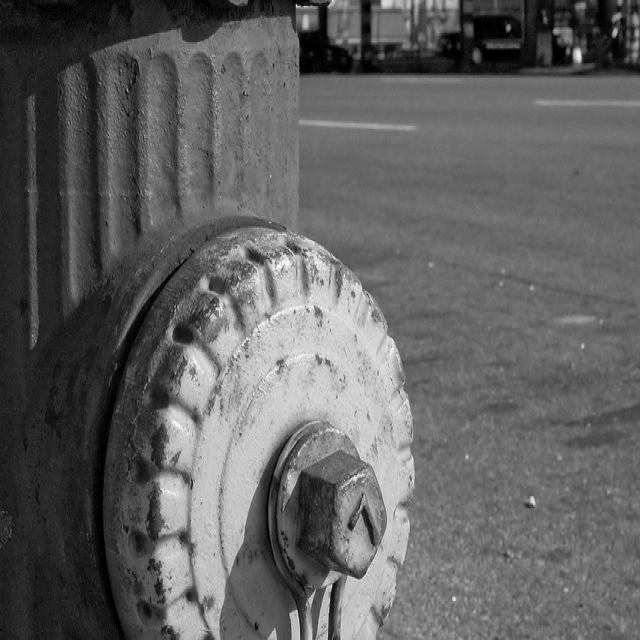fire_hydrant: (0, 0, 413, 637)
